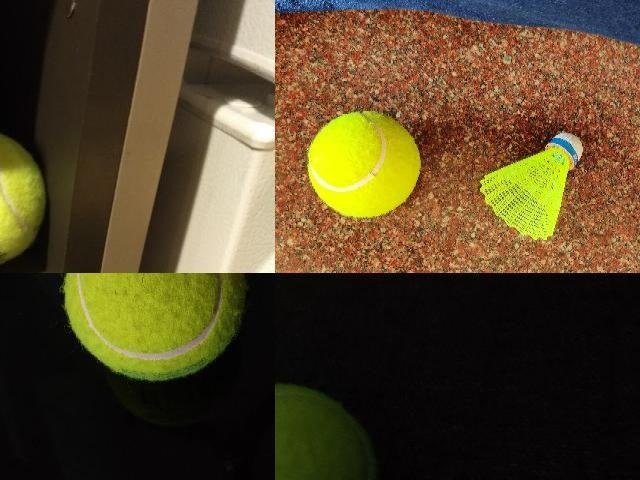tennis-ball: (62, 273, 247, 382), (306, 110, 422, 218), (275, 383, 381, 479), (0, 127, 47, 271)
